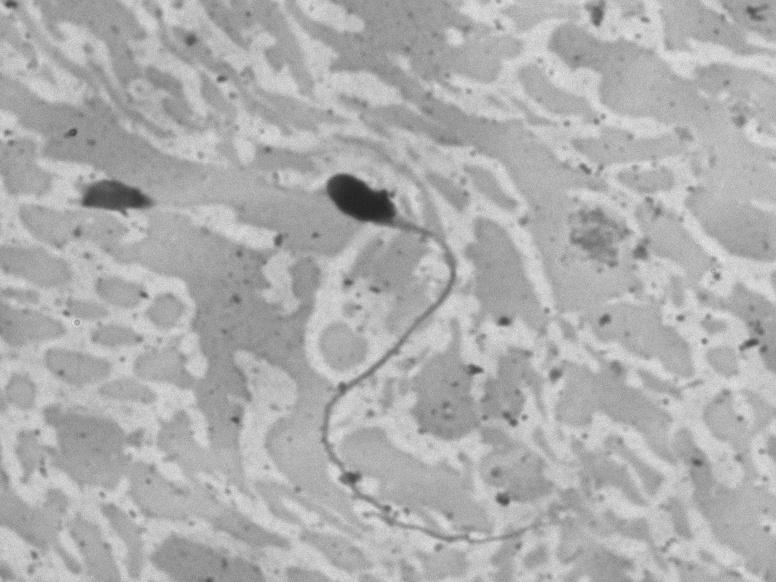Abnormal: (281, 151, 545, 561)
